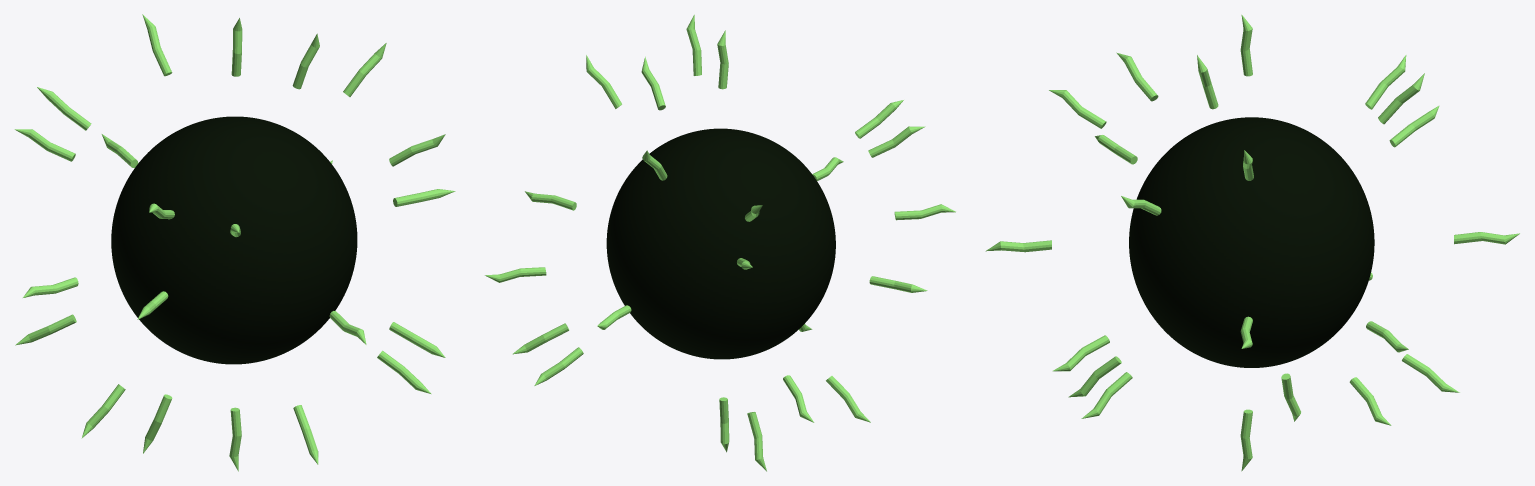
File: killerCell(inner).fbx
3 renders of one model, left to right at view 1: azimuth 30°, elevation 25°; view 2: azimuth 150°, elevation 25°; view 3: azimuth 270°, elevation 25°, orthographic. The views are drawn at different scales.
Parts seen in each view (by area): view 1: Inner, Cone.023, Cone.020, Cone.022, Cone.015, Cone.021, Cone.011, Cone.016, Cone.003, Cone.009, Cone.008, Cone.001 (+5 smaller); view 2: Inner, Cone.006, Cone.012, Cone.007, Cone.014, Cone.013, Cone.017, Cone.019, Cone.018, Cone.022; view 3: Inner, Cone.005, Cone.004, Cone.011, Cone.019, Cone.020, Cone.008, Cone.023, Cone.016, Cone.018, Cone, Cone.003.
Boxes of the visible parts, <box> form: Inner: <box>111,116,357,364</box>; Cone.023: <box>37,87,91,130</box>; Cone.020: <box>377,350,431,393</box>; Cone.022: <box>343,43,386,96</box>; Cone.015: <box>14,129,75,161</box>; Cone.021: <box>81,384,125,438</box>; Cone.011: <box>142,14,172,76</box>; Cone.016: <box>389,322,445,357</box>; Cone.003: <box>229,407,241,471</box>; Cone.009: <box>15,314,76,345</box>; Cone.008: <box>293,405,318,464</box>; Cone.001: <box>393,189,455,206</box>; Inner: <box>606,128,835,359</box>; Cone.006: <box>868,126,925,157</box>; Cone.012: <box>894,204,955,220</box>; Cone.007: <box>512,323,569,354</box>; Cone.014: <box>747,412,766,471</box>; Cone.013: <box>485,267,546,282</box>; Cone.017: <box>686,14,701,75</box>; Cone.019: <box>534,347,583,385</box>; Cone.018: <box>855,100,903,138</box>; Cone.022: <box>586,55,621,108</box>; Inner: <box>1129,117,1374,367</box>; Cone.005: <box>985,240,1051,252</box>; Cone.004: <box>1454,232,1519,244</box>; Cone.011: <box>1378,73,1424,124</box>; Cone.019: <box>1402,354,1459,392</box>; Cone.020: <box>1081,372,1132,418</box>; Cone.008: <box>1068,356,1121,397</box>; Cone.023: <box>1365,55,1406,109</box>; Cone.016: <box>1052,335,1109,371</box>; Cone.018: <box>1049,90,1106,128</box>; Cone: <box>1240,14,1252,76</box>; Cone.003: <box>1240,409,1252,471</box>.
Size of the model in its own units: 400 by 400 by 424.
